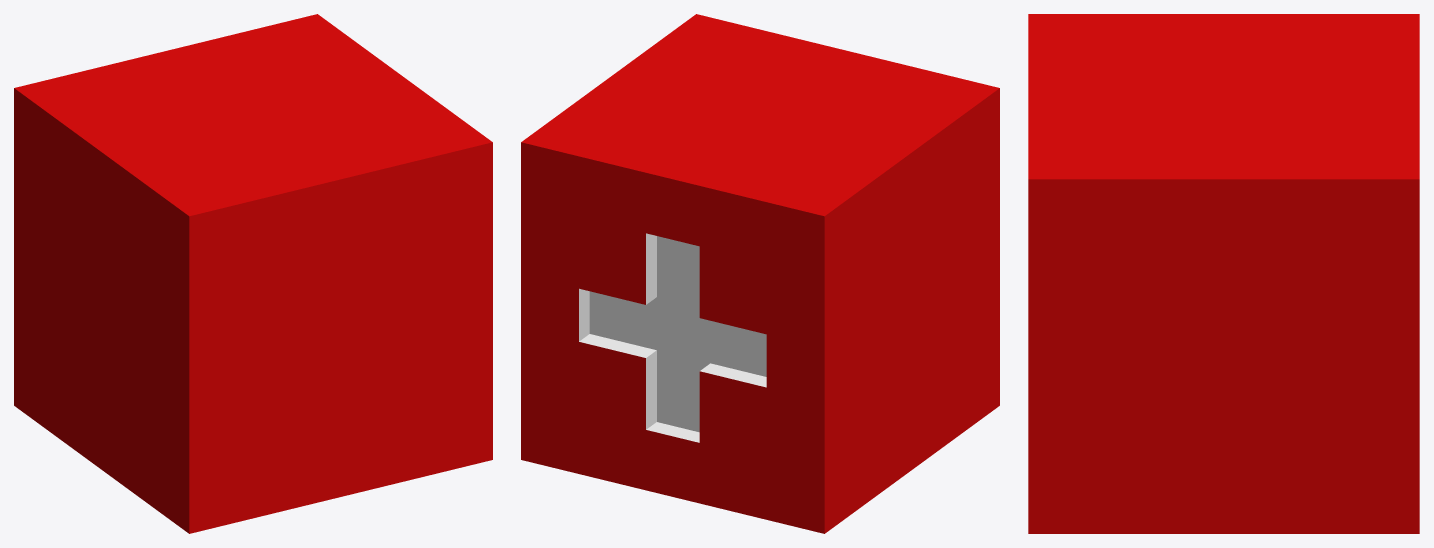
File: Medicine_Box.fbx
3 views of the same model, side by side, from view 1: azimuth 30°, elevation 25°; view 2: azimuth 150°, elevation 25°; view 3: azimuth 270°, elevation 25° (orthographic). The views are drawn at different scales.
Visible parts, largest first — view 1: Medicine_Box; view 2: Medicine_Box; view 3: Medicine_Box.
Part boxes in pixels (bbox=[...]): Medicine_Box: bbox=[14, 14, 492, 533]; Medicine_Box: bbox=[521, 14, 999, 533]; Medicine_Box: bbox=[1028, 14, 1419, 533].
Bounding box in the file's own units: 1421 × 1421 × 1421.
